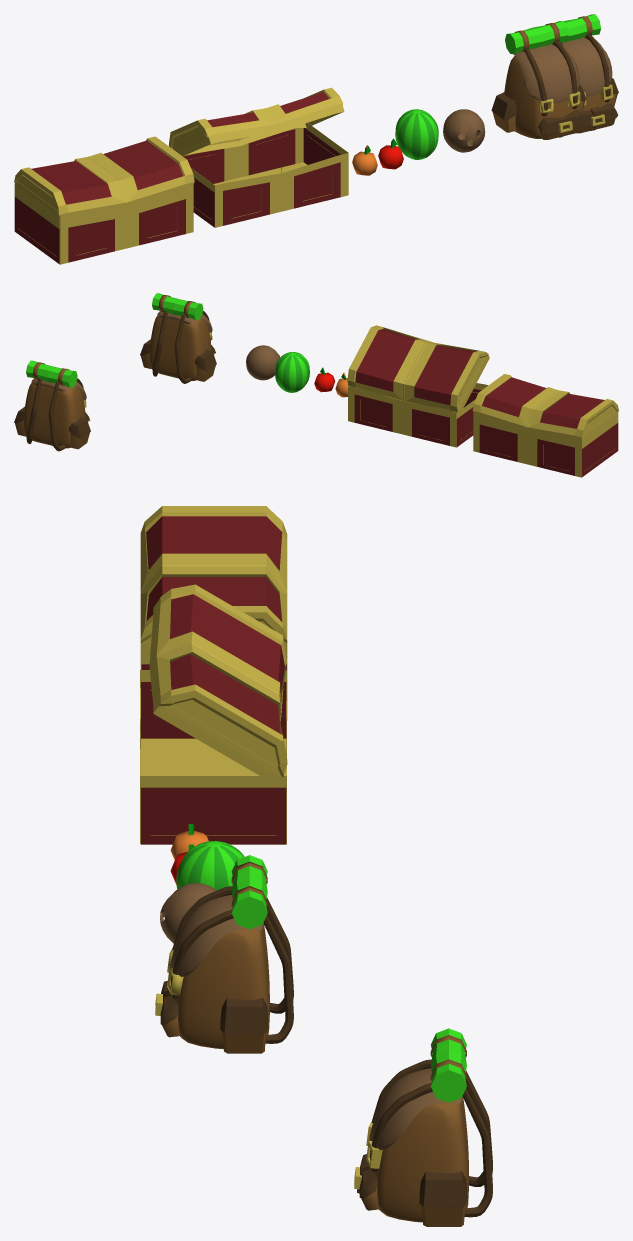
The model's file is prototype items.fbx.
3 renders of one model, top to bottom at view 1: azimuth 30°, elevation 25°; view 2: azimuth 150°, elevation 25°; view 3: azimuth 270°, elevation 25°, orthographic. The views are drawn at different scales.
Parts seen in each view (by area): view 1: Cube, Cube.001, Cube.004, Sphere, Cube.013, Sphere.001, Cylinder.002, Cube.002, Cube.003, Cube.017, Cube.015; view 2: Cube.001, Cube, Cube.004, Cube.012, Sphere, Sphere.001, Cube.015, Cube.016, Cylinder.002, Cube.002, Cube.013; view 3: Cube.001, Cube.004, Cube, Cube.012, Cube.015, Cube.016, Cube.013, Sphere, Cylinder.002, Sphere.001.
Part boxes in pixels (bbox=[...]): Cube: bbox=[14, 136, 194, 264]; Cube.001: bbox=[169, 87, 348, 227]; Cube.004: bbox=[491, 21, 586, 139]; Sphere: bbox=[395, 109, 438, 159]; Cube.013: bbox=[562, 37, 612, 96]; Sphere.001: bbox=[443, 109, 485, 152]; Cylinder.002: bbox=[561, 14, 600, 42]; Cube.002: bbox=[378, 138, 403, 169]; Cube.003: bbox=[352, 145, 377, 175]; Cube.017: bbox=[576, 103, 617, 133]; Cube.015: bbox=[559, 34, 610, 102]; Cube.001: bbox=[347, 325, 489, 447]; Cube: bbox=[472, 374, 618, 477]; Cube.004: bbox=[140, 293, 216, 383]; Cube.012: bbox=[23, 383, 85, 448]; Sphere: bbox=[274, 352, 309, 392]; Sphere.001: bbox=[246, 345, 280, 380]; Cube.015: bbox=[26, 378, 83, 451]; Cube.016: bbox=[14, 406, 90, 449]; Cylinder.002: bbox=[26, 360, 77, 387]; Cube.002: bbox=[314, 367, 335, 392]; Cube.013: bbox=[31, 379, 86, 400]; Cube.001: bbox=[140, 584, 287, 844]; Cube.004: bbox=[155, 855, 293, 1053]; Cube: bbox=[140, 506, 287, 720]; Cube.012: bbox=[370, 1098, 468, 1222]; Cube.015: bbox=[370, 1059, 492, 1217]; Cube.016: bbox=[419, 1171, 467, 1226]; Cube.013: bbox=[369, 1068, 462, 1150]; Sphere: bbox=[176, 841, 244, 890]; Cylinder.002: bbox=[430, 1028, 466, 1102]; Sphere.001: bbox=[160, 883, 216, 943].
Size of the model in its own units: 1665 by 398 by 486.
